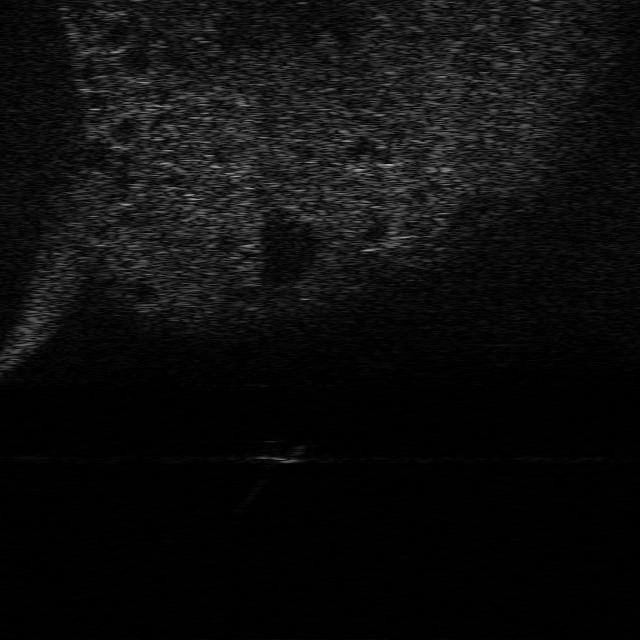cube: (257, 439, 305, 464)
